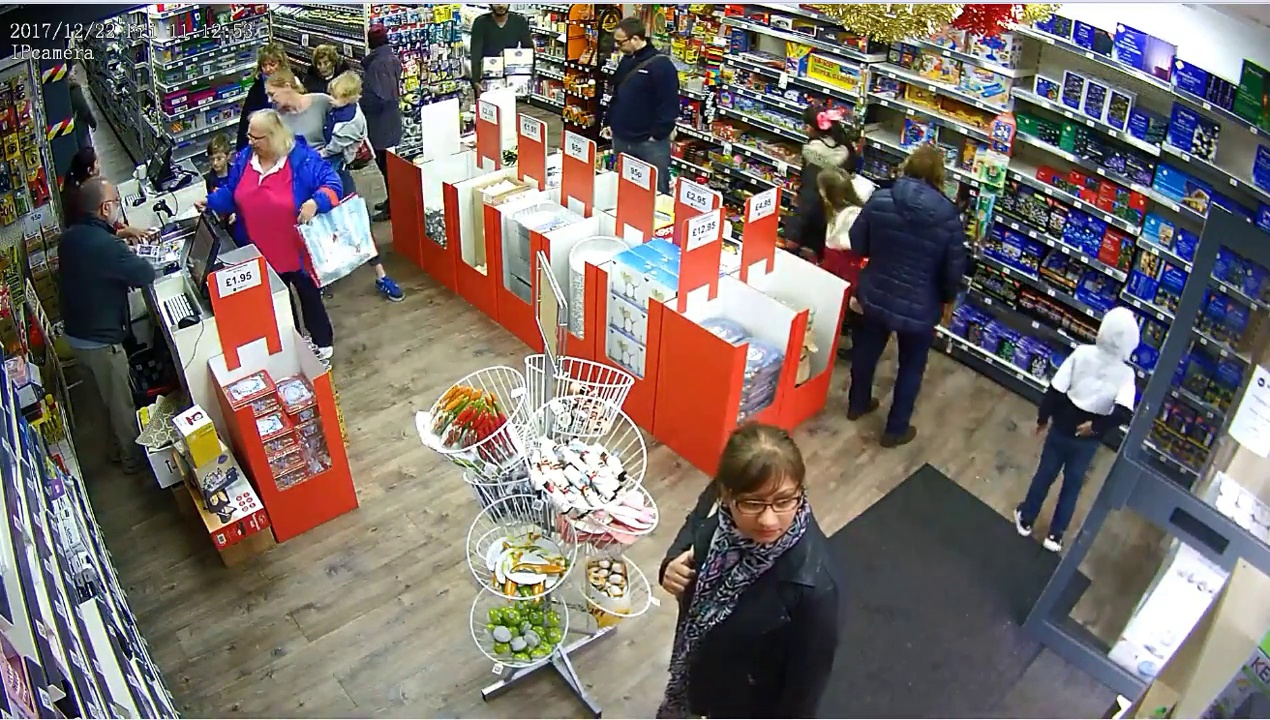face: (732, 466, 798, 543), (243, 119, 270, 160), (611, 25, 640, 57), (260, 79, 287, 104)
